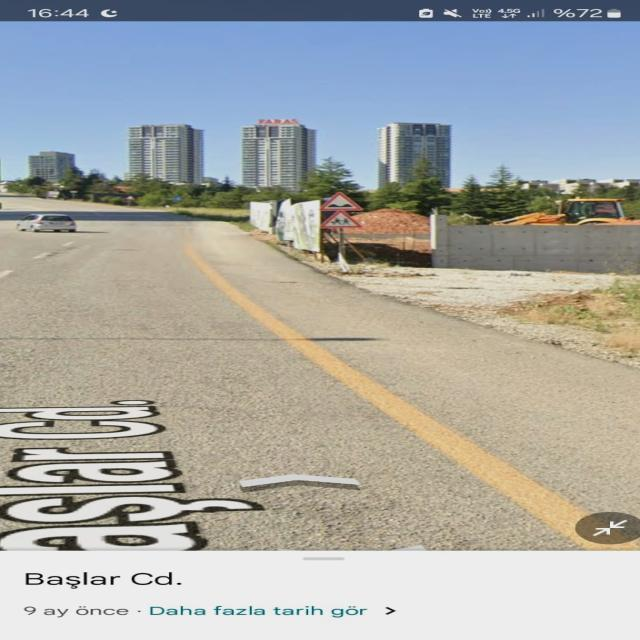okul_gecidi: (317, 209, 365, 228)
